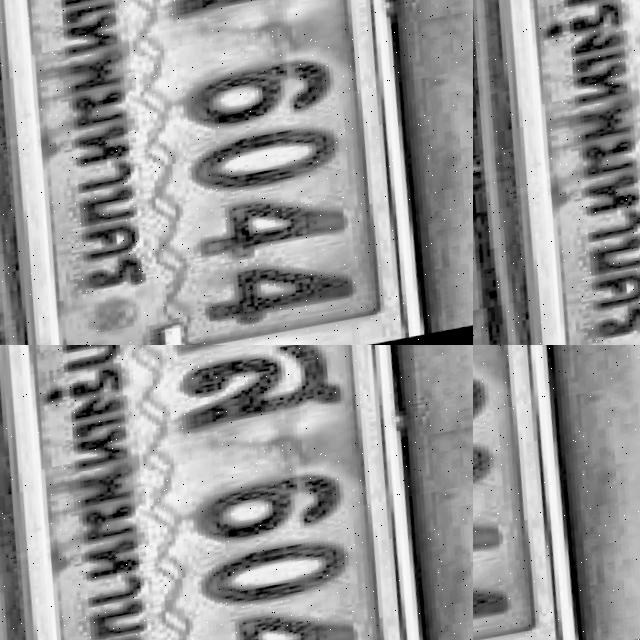license-plate: (473, 345, 621, 640), (269, 0, 473, 133)
